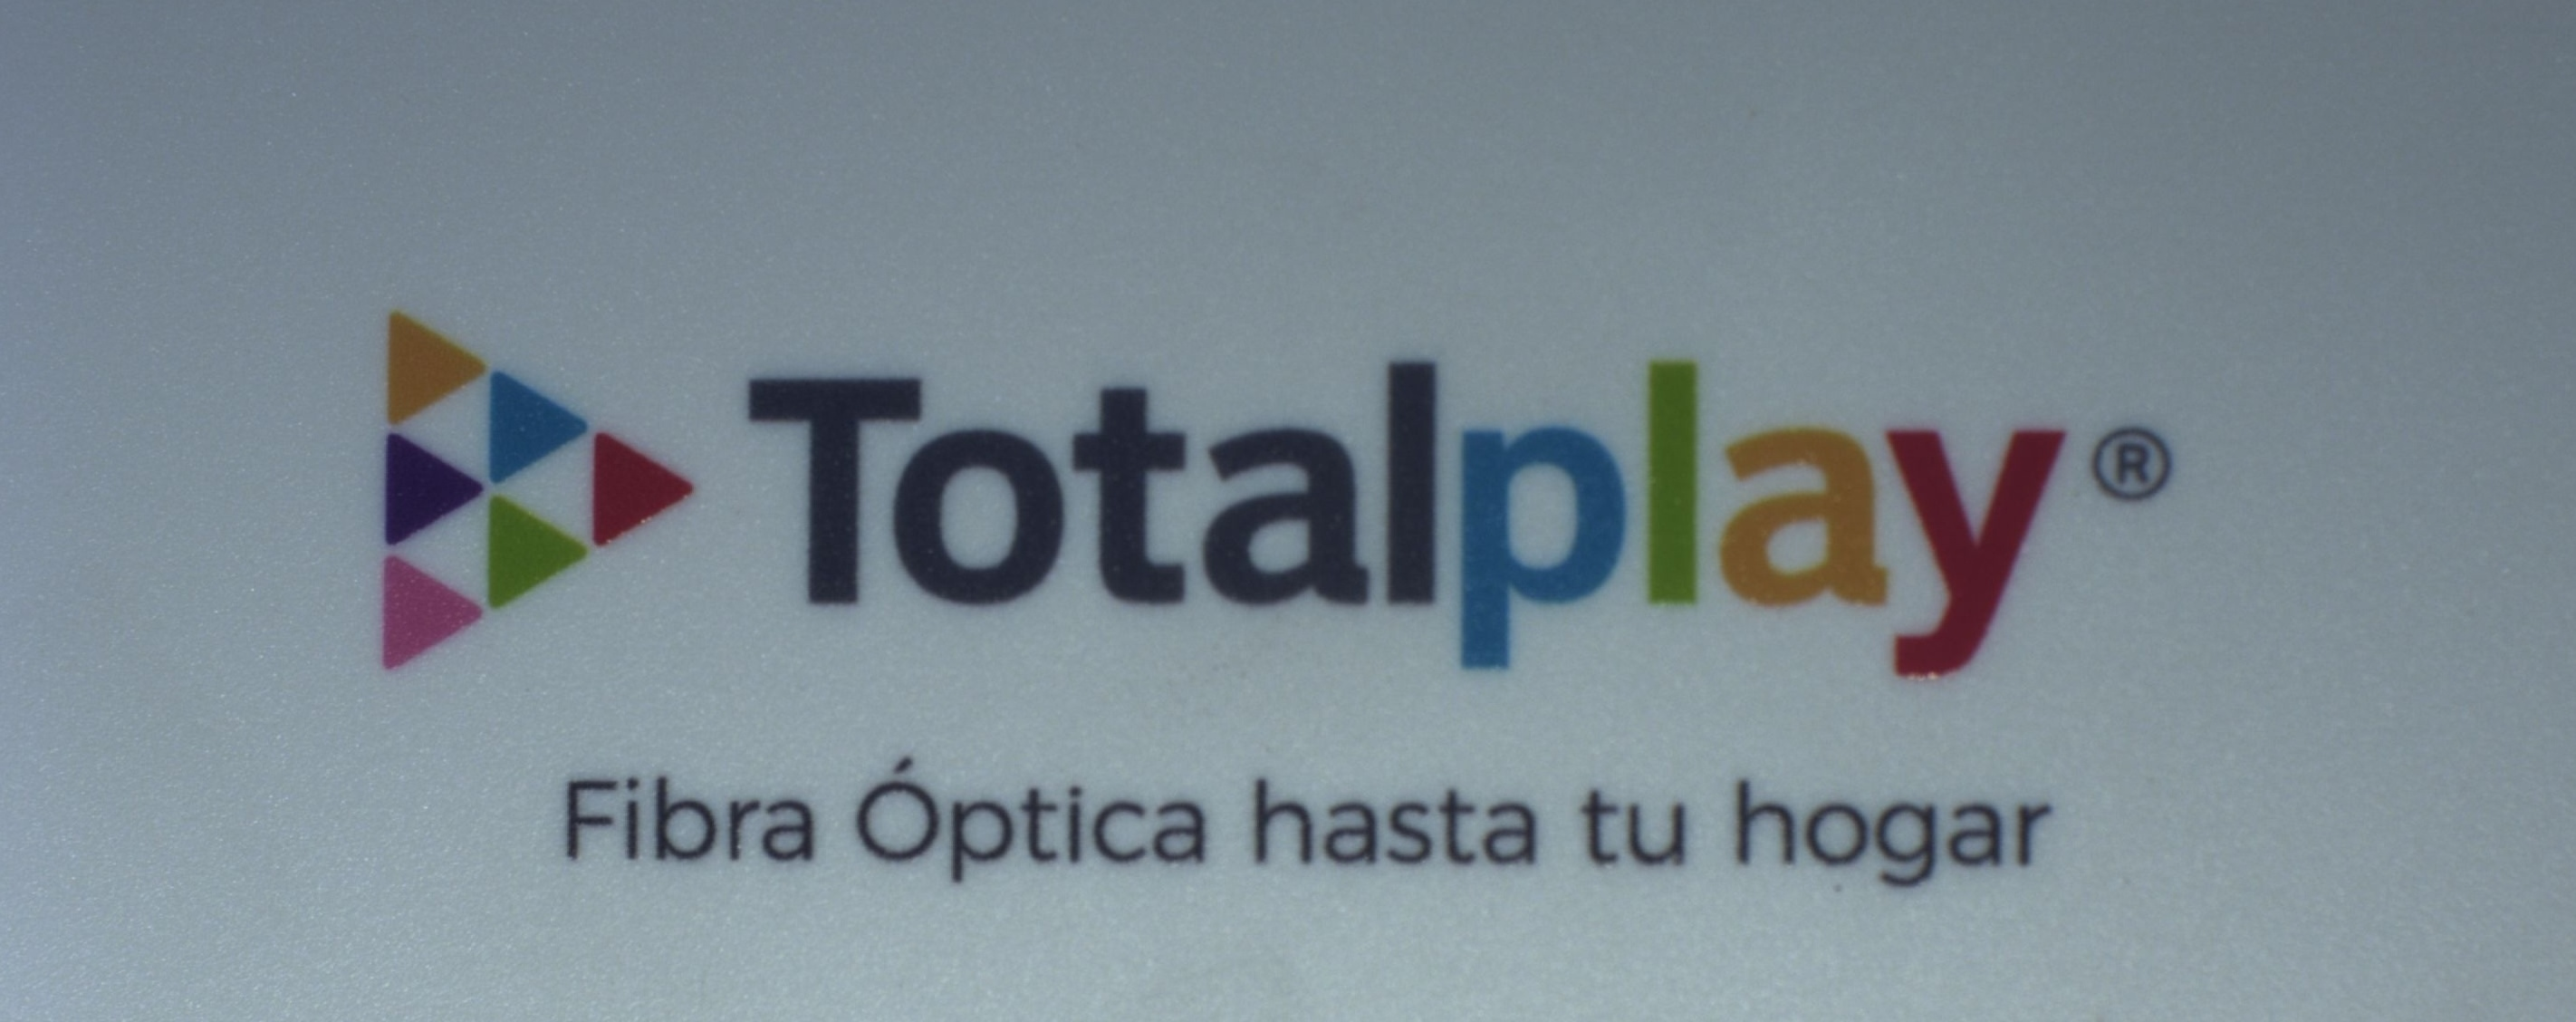BP_TotalPlay: (365, 289, 2177, 900)
